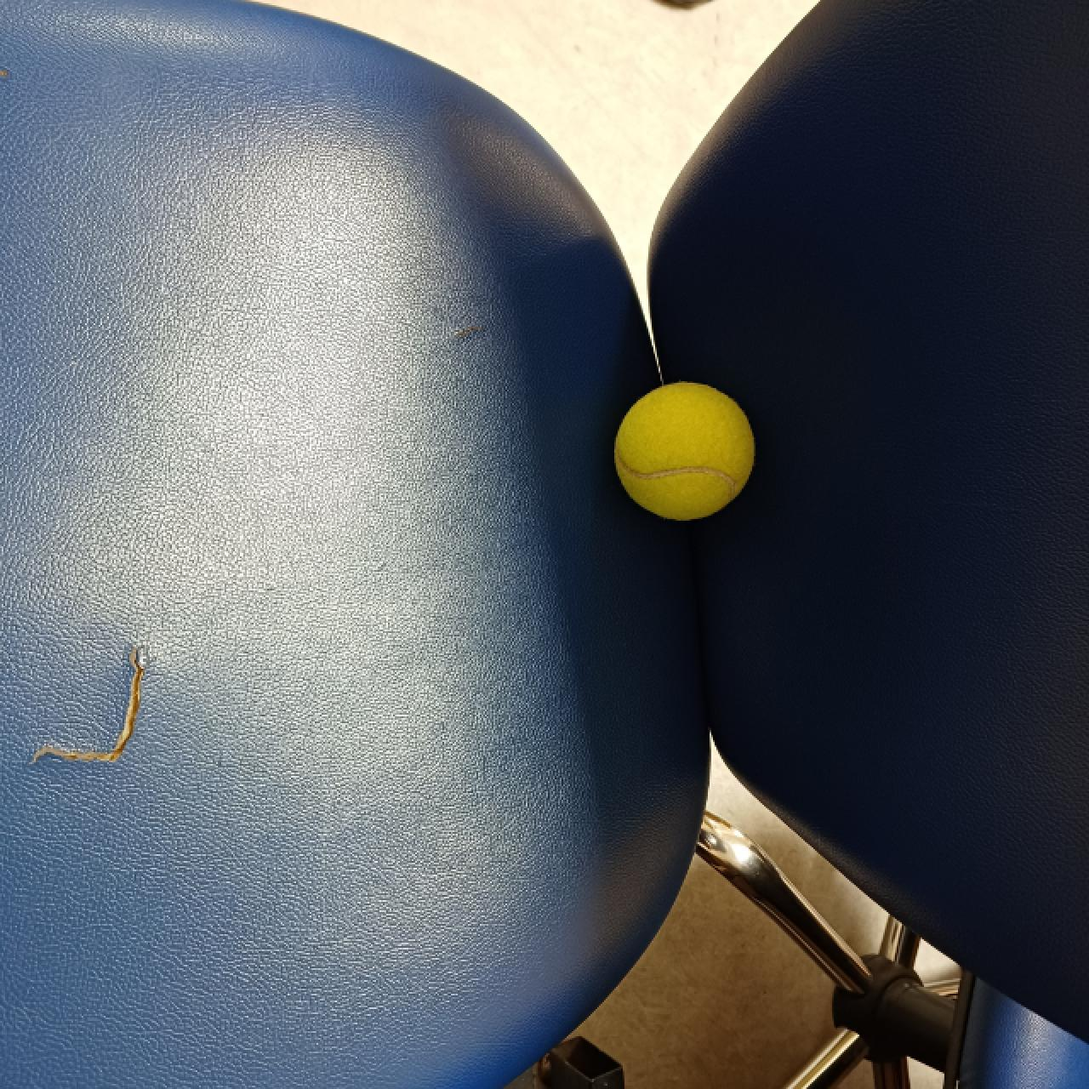tennis-ball: (618, 379, 759, 523)
